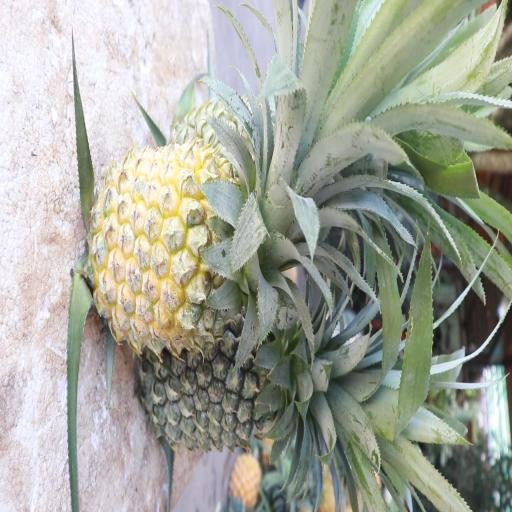Pineapple - v8 v1: (93, 148, 314, 352)
